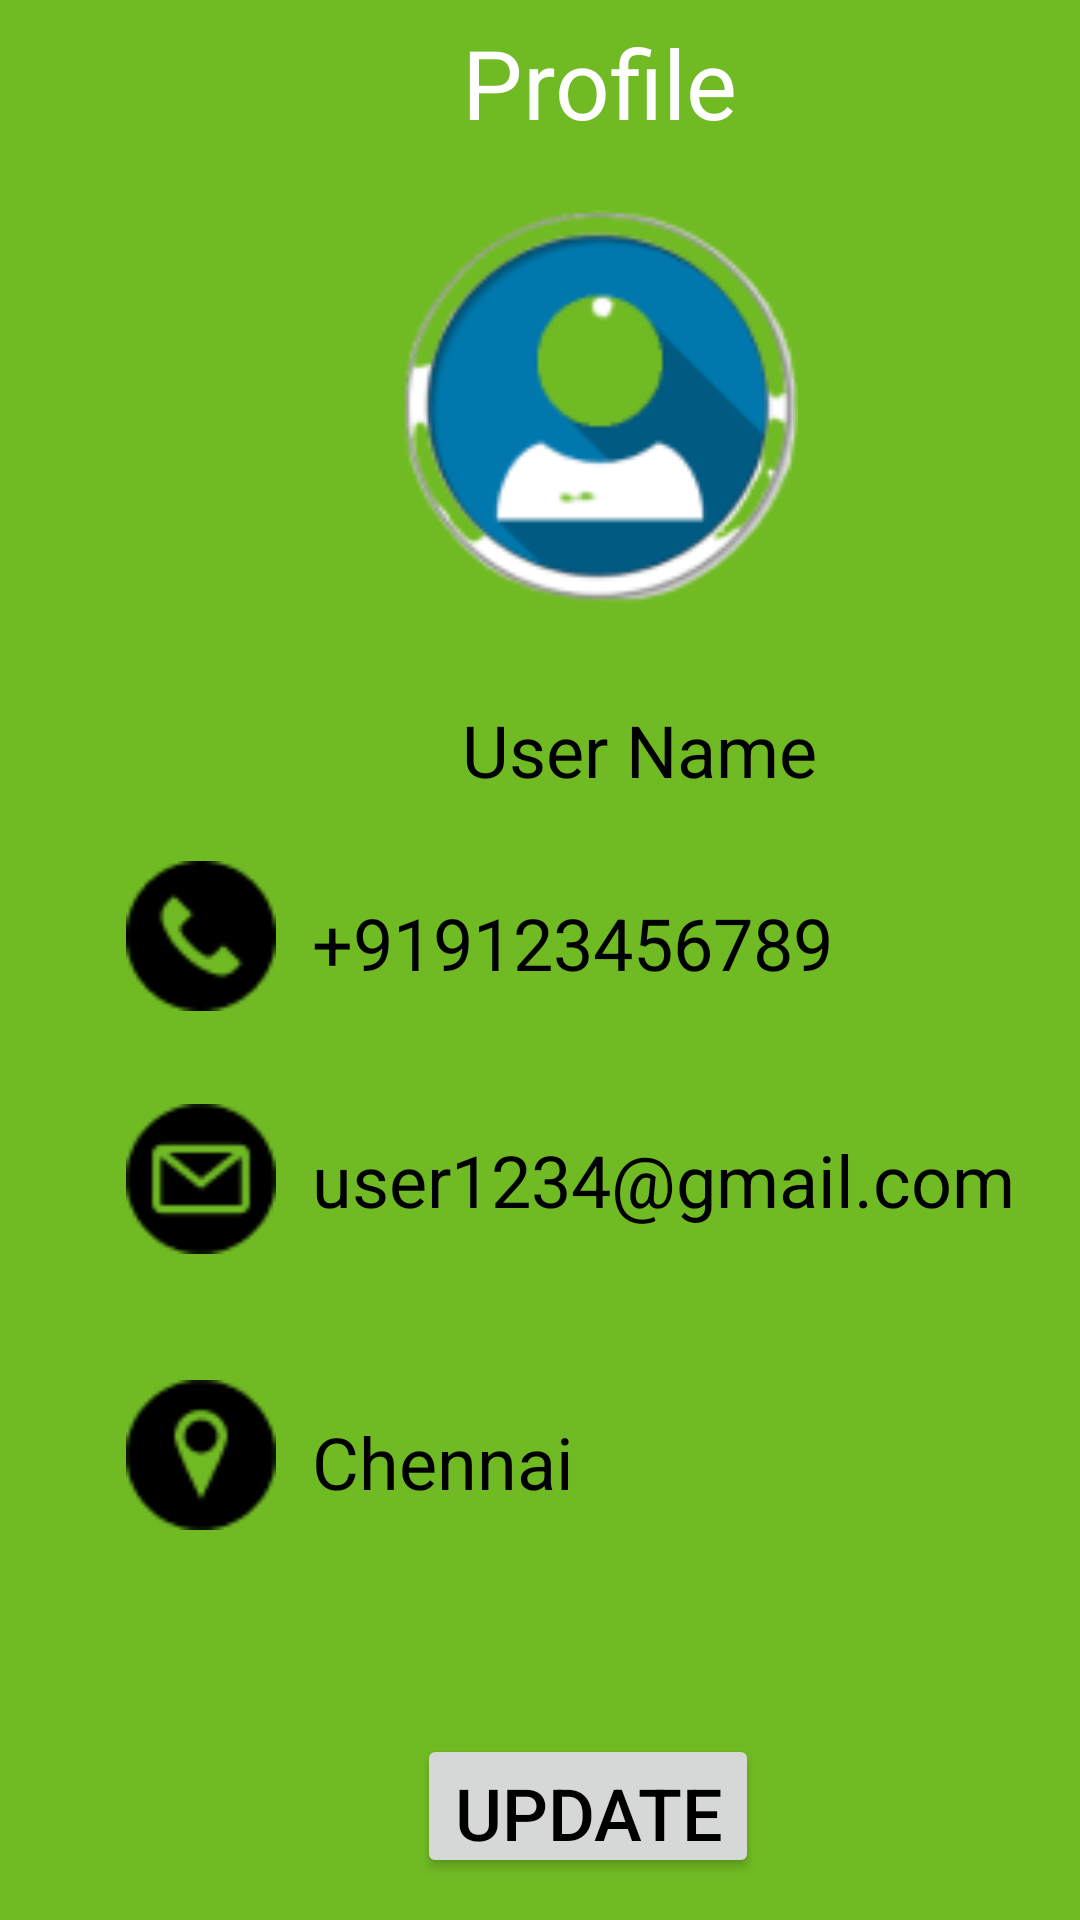

Named icons in this screenshot (1080x1920) and their centers, point (x, y):
location: point (201, 1455)
